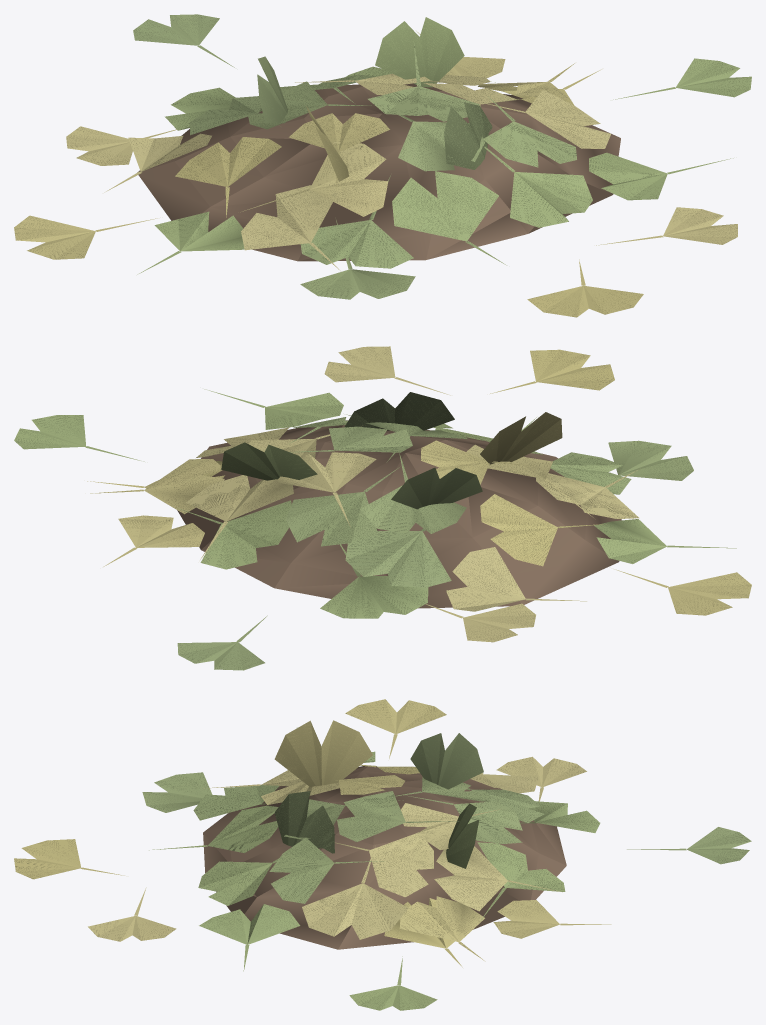
File: litter.glb
The picture shows the model from 3 angles, top to bottom: view 1: azimuth 30°, elevation 25°; view 2: azimuth 150°, elevation 25°; view 3: azimuth 270°, elevation 25°; orthographic projection. The views are drawn at different scales.
Visible parts, largest first — view 1: litter.001; view 2: litter.001; view 3: litter.001.
Boxes of the visible parts, left/top/right/bottom form: litter.001: left=14, top=14, right=751, bottom=317; litter.001: left=14, top=346, right=751, bottom=670; litter.001: left=14, top=699, right=751, bottom=1010.
Bounding box in the file's own units: 1.96 × 0.2738 × 1.96.
